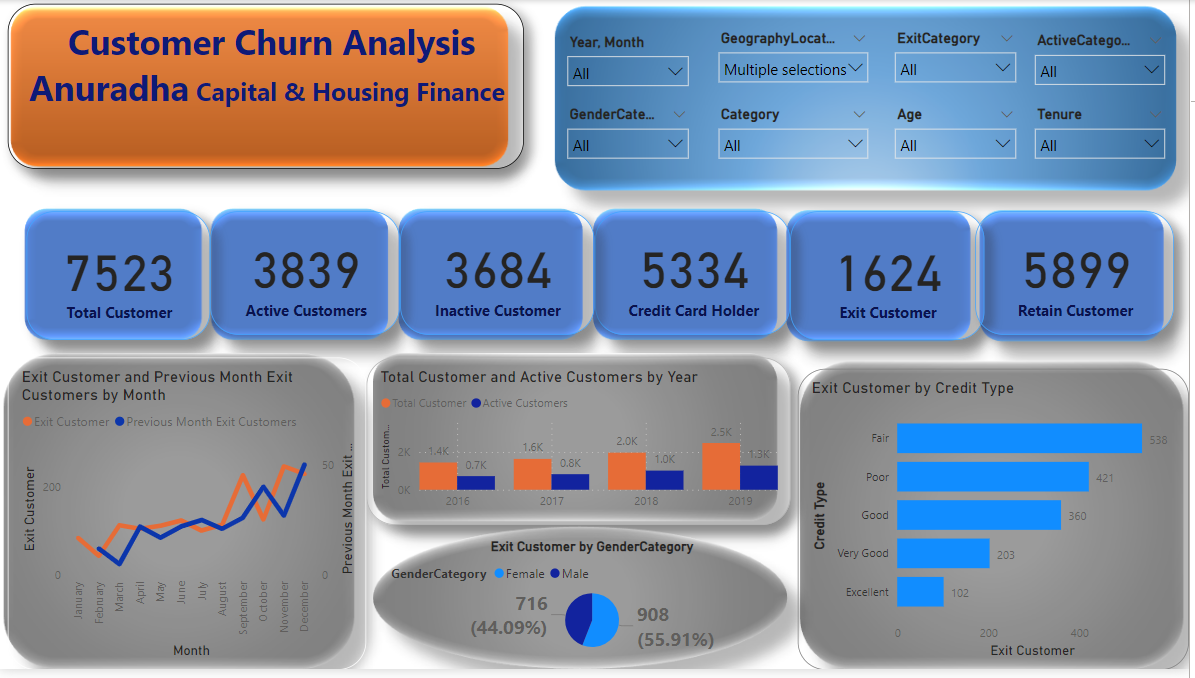

Layout of this report page (visuals, bound fields, positions):
{"tool":"powerbi","page":{"name":"Page 1","canvas":[1280,720],"ordinal":0},"visuals":[{"type":"textbox","box":[9.4,4,555.3,177.5],"z":0},{"type":"card","fields":{"Values":["Calculation.Total Customer"]},"box":[29.6,227.2,197.6,138.5],"z":1000},{"type":"card","fields":{"Values":["Calculation.Active Customers"]},"box":[227.2,227.2,204.4,133.1],"z":2000},{"type":"card","fields":{"Values":["Calculation.Credit Card Holder"]},"box":[641.3,227.2,209.7,133.1],"z":3000},{"type":"card","fields":{"Values":["Calculation.Inactive Customer"]},"box":[431.6,227.2,208.4,133.1],"z":4000},{"type":"card","fields":{"Values":["Calculation.Exit Customer"]},"box":[851.1,227.2,208.4,138.5],"z":5000},{"type":"card","fields":{"Values":["Calculation.Retain Customer"]},"box":[1050.1,227.2,213.8,133.1],"z":6000},{"type":"slicer","fields":{"Values":["DateMaster.Date.Variation.Date Hierarchy.Year","DateMaster.Date.Variation.Date Hierarchy.Month"]},"box":[600.5,30.9,150.6,65.9],"z":10000},{"type":"slicer","fields":{"Values":["Geography.GeographyLocation"]},"box":[763.2,26.9,181.5,69.9],"z":11000},{"type":"slicer","fields":{"Values":["ExitCustomer.ExitCategory"]},"box":[952.7,26.9,150.6,69.9],"z":12000},{"type":"slicer","fields":{"Values":["ActiveCustomer.ActiveCategory"]},"box":[1103.9,29.6,160,65.9],"z":13000},{"type":"slicer","fields":{"Values":["Gender.GenderCategory"]},"box":[600.5,108.9,150.6,65.9],"z":14000},{"type":"slicer","fields":{"Values":["CreditCard.Category"]},"box":[763.2,108.9,181.5,65.9],"z":15000},{"type":"slicer","fields":{"Values":["Bank_Churn.Age"]},"box":[952.7,108.9,150.6,65.9],"z":16000},{"type":"slicer","fields":{"Values":["Bank_Churn.Tenure"]},"box":[1103.9,108.9,160,65.9],"z":17000},{"type":"clusteredColumnChart","fields":{"Y":["Calculation.Total Customer","Calculation.Active Customers"],"Category":["DateMaster.Date.Variation.Date Hierarchy.Year","DateMaster.Date.Variation.Date Hierarchy.Quarter","DateMaster.Date.Variation.Date Hierarchy.Month","DateMaster.Date.Variation.Date Hierarchy.Day"]},"box":[395.3,384.5,455.8,180.2],"z":18000},{"type":"lineChart","fields":{"Category":["DateMaster.Date.Variation.Date Hierarchy.Month"],"Y2":["Calculation.Previous Month Exit Customers"],"Y":["Calculation.Exit Customer"]},"box":[9.4,384.5,385.9,336.1],"z":19000},{"type":"pieChart","fields":{"Category":["Gender.GenderCategory"],"Y":["Calculation.Exit Customer"]},"box":[416.8,579.5,442.4,129.1],"z":20000},{"type":"clusteredBarChart","fields":{"Y":["Calculation.Exit Customer"],"Category":["Bank_Churn.Credit Type"]},"box":[859.2,396.6,420.8,324],"z":21000}]}

Visuals, with their boxes in screenshot pixels (x1, y1, x2, y2), scaled from the page's 1280x720 canvas onto the 1195x678 screenshot:
textbox: [left=9, top=4, right=527, bottom=171]
card - Calculation.Total Customer: [left=28, top=214, right=212, bottom=344]
card - Calculation.Active Customers: [left=212, top=214, right=403, bottom=339]
card - Calculation.Credit Card Holder: [left=599, top=214, right=794, bottom=339]
card - Calculation.Inactive Customer: [left=403, top=214, right=598, bottom=339]
card - Calculation.Exit Customer: [left=795, top=214, right=989, bottom=344]
card - Calculation.Retain Customer: [left=980, top=214, right=1180, bottom=339]
slicer - DateMaster.Date.Variation.Date Hierarchy.Year x DateMaster.Date.Variation.Date Hierarchy.Month: [left=561, top=29, right=701, bottom=91]
slicer - Geography.GeographyLocation: [left=713, top=25, right=882, bottom=91]
slicer - ExitCustomer.ExitCategory: [left=889, top=25, right=1030, bottom=91]
slicer - ActiveCustomer.ActiveCategory: [left=1031, top=28, right=1180, bottom=90]
slicer - Gender.GenderCategory: [left=561, top=103, right=701, bottom=165]
slicer - CreditCard.Category: [left=713, top=103, right=882, bottom=165]
slicer - Bank_Churn.Age: [left=889, top=103, right=1030, bottom=165]
slicer - Bank_Churn.Tenure: [left=1031, top=103, right=1180, bottom=165]
clusteredColumnChart - Calculation.Total Customer x Calculation.Active Customers: [left=369, top=362, right=795, bottom=532]
lineChart - DateMaster.Date.Variation.Date Hierarchy.Month x Calculation.Previous Month Exit Customers: [left=9, top=362, right=369, bottom=677]
pieChart - Gender.GenderCategory x Calculation.Exit Customer: [left=389, top=546, right=802, bottom=667]
clusteredBarChart - Calculation.Exit Customer x Bank_Churn.Credit Type: [left=802, top=373, right=1194, bottom=677]
